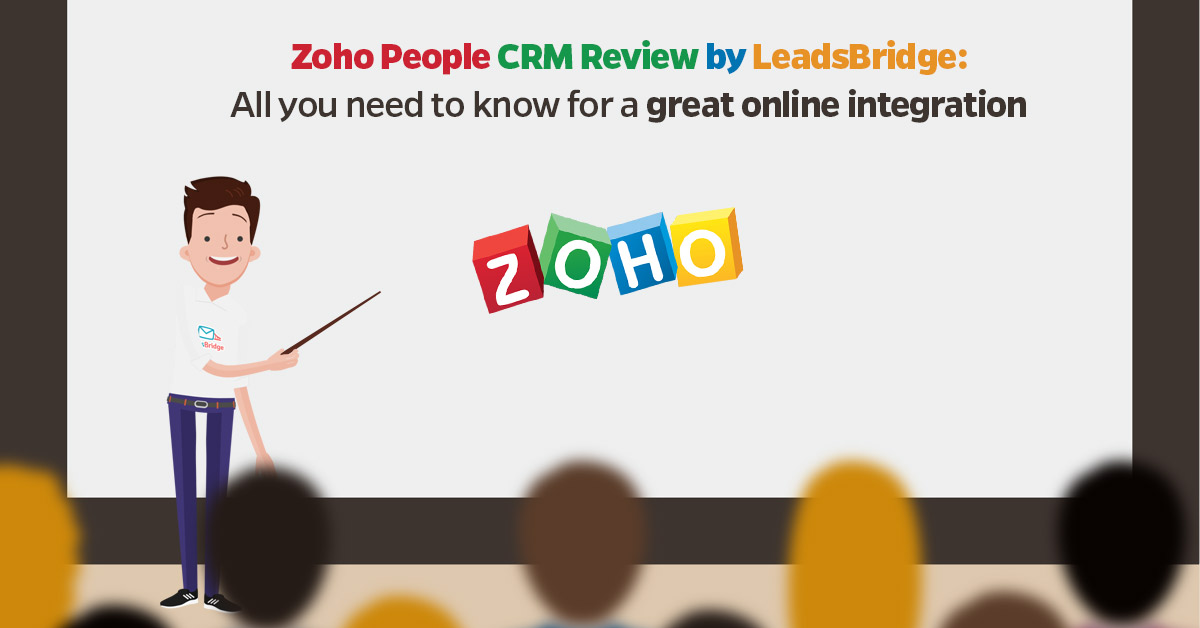zoho: (467, 206, 749, 315)
